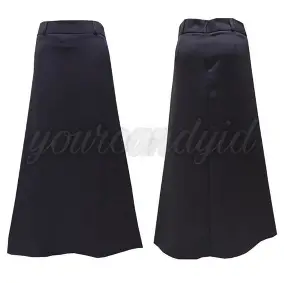rok_benar: (7, 17, 135, 251), (151, 15, 270, 256)
